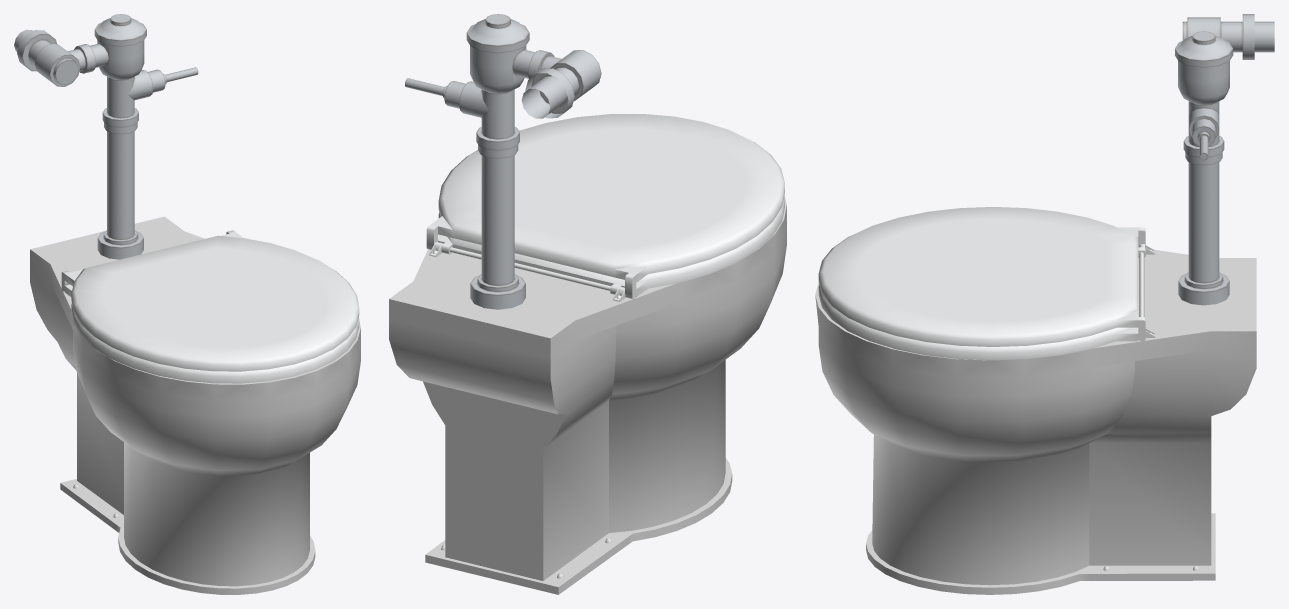
Rendered from Toilet_Elongated_C.fbx.
3 views of the same model, side by side, from view 1: azimuth 30°, elevation 25°; view 2: azimuth 150°, elevation 25°; view 3: azimuth 270°, elevation 25° (orthographic). The views are drawn at different scales.
Parts seen in each view (by area): view 1: Toilet_Elongated_C, Toilet_Elongated_C_Seat_Cover, Toilet_Elongated_C_Seat; view 2: Toilet_Elongated_C, Toilet_Elongated_C_Seat_Cover, Toilet_Elongated_C_Seat; view 3: Toilet_Elongated_C, Toilet_Elongated_C_Seat_Cover, Toilet_Elongated_C_Seat.
Part boxes in pixels (<box>): Toilet_Elongated_C: <box>14,14,360,594</box>; Toilet_Elongated_C_Seat_Cover: <box>61,230,359,371</box>; Toilet_Elongated_C_Seat: <box>64,284,359,383</box>; Toilet_Elongated_C: <box>389,14,786,594</box>; Toilet_Elongated_C_Seat_Cover: <box>426,114,784,299</box>; Toilet_Elongated_C_Seat: <box>429,195,784,301</box>; Toilet_Elongated_C: <box>815,14,1274,594</box>; Toilet_Elongated_C_Seat_Cover: <box>818,207,1145,346</box>; Toilet_Elongated_C_Seat: <box>818,244,1155,360</box>.
Size of the model in its own units: 41.91 by 76.37 by 61.84.
